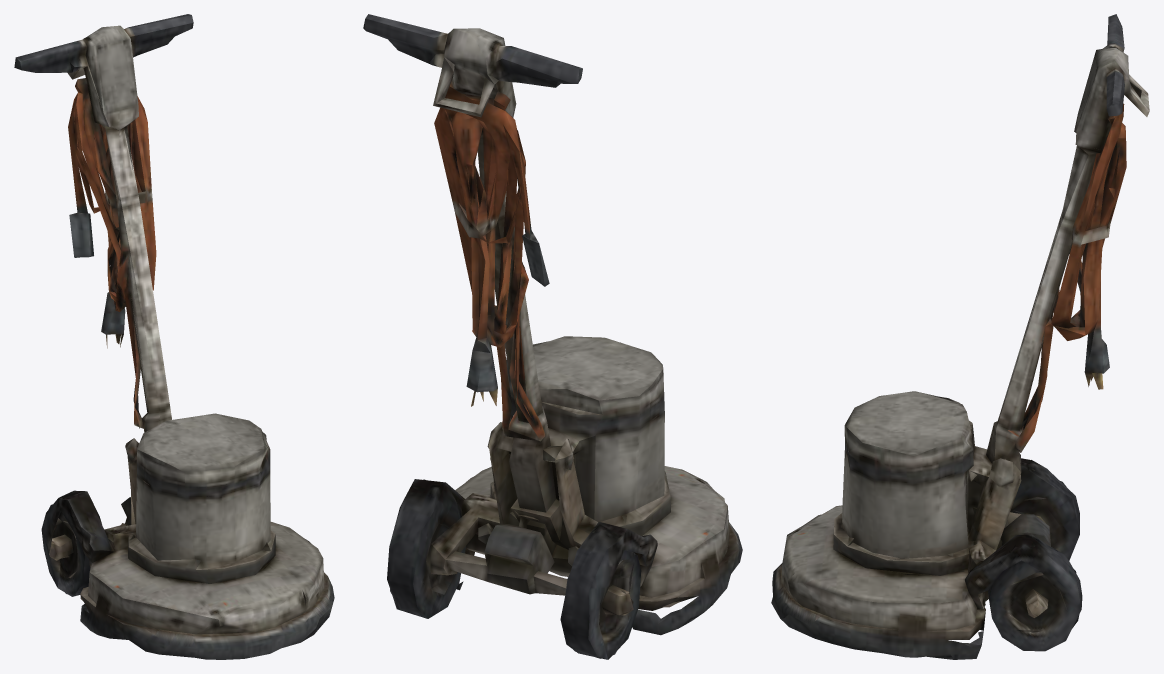
Rendered from p7-floor-buffer.glb.
3 views of the same model, side by side, from view 1: azimuth 30°, elevation 25°; view 2: azimuth 150°, elevation 25°; view 3: azimuth 270°, elevation 25° (orthographic). The views are drawn at different scales.
Parts seen in each view (by area): view 1: p7-floor-buffer; view 2: p7-floor-buffer; view 3: p7-floor-buffer.
Part boxes in pixels (x1,y1,x2,y2): p7-floor-buffer: (14,14,334,659); p7-floor-buffer: (363,14,742,659); p7-floor-buffer: (771,14,1149,659).
Bounding box in the file's own units: 0.5 × 1.15 × 0.7072.
1 material, 1 textured.
